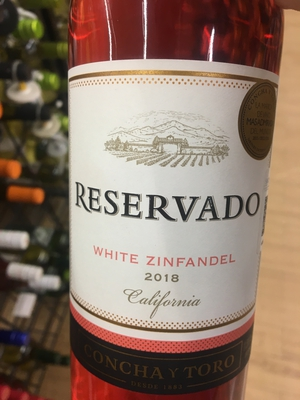reservado white zinfandel: (66, 11, 278, 400)
